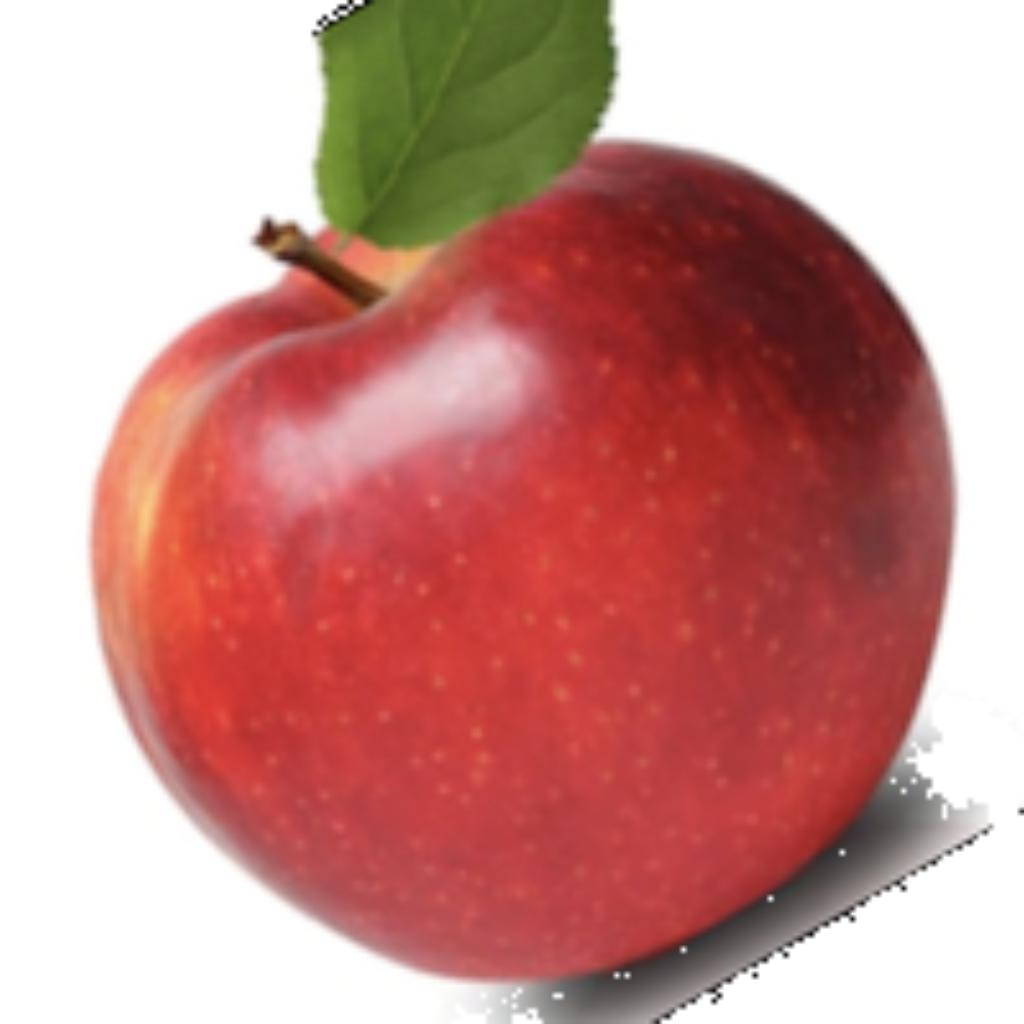apple: (82, 0, 993, 1019)
